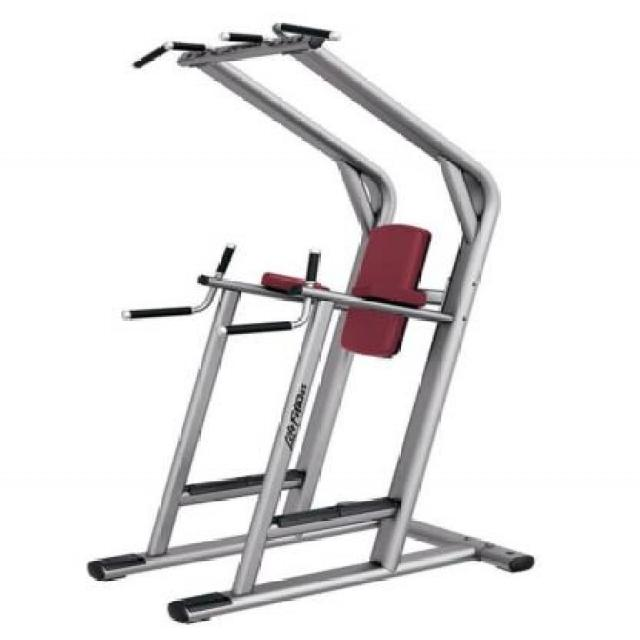chinning dipping: (94, 18, 529, 620)
